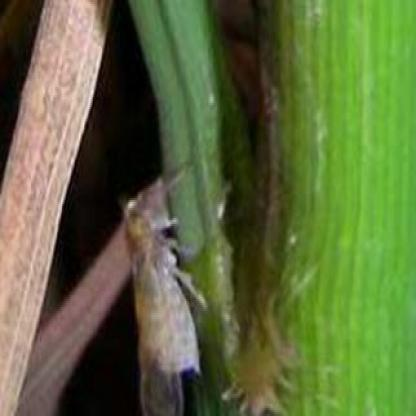brown-planthopper: (118, 192, 196, 416)
